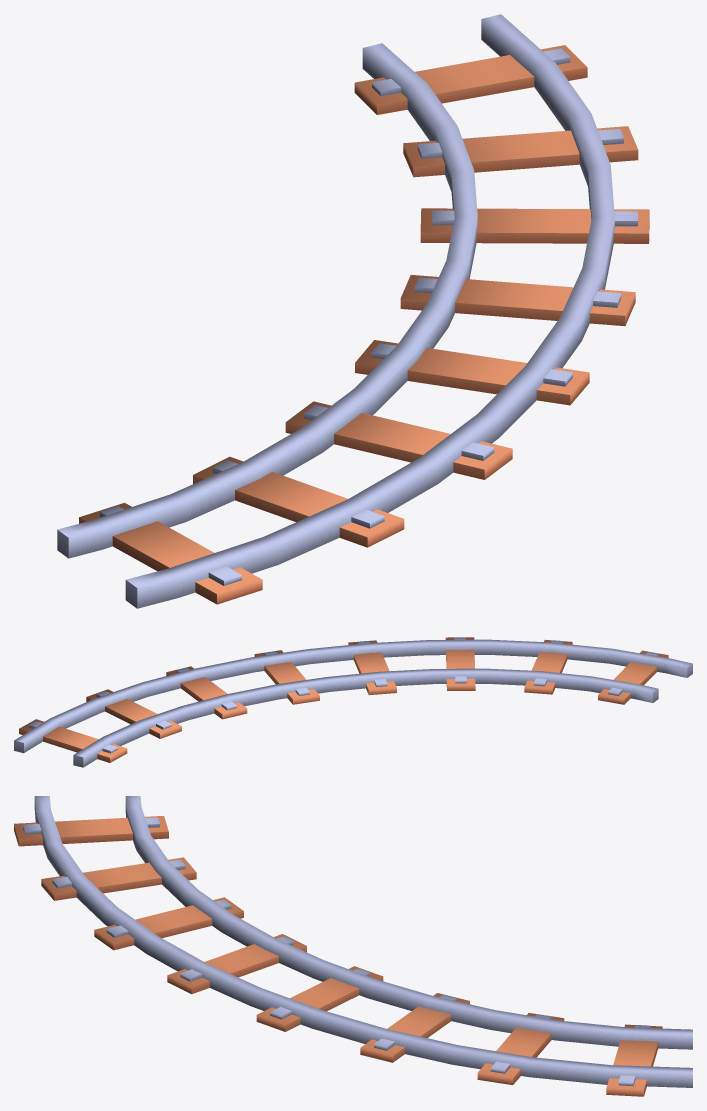
Rendered from railroad-corner-large.004_lev2.glb.
The picture shows the model from 3 angles, top to bottom: view 1: azimuth 30°, elevation 25°; view 2: azimuth 150°, elevation 25°; view 3: azimuth 270°, elevation 25°; orthographic projection. The views are drawn at different scales.
Visible parts, largest first — view 1: railroad-corner-large.004_lev2; view 2: railroad-corner-large.004_lev2; view 3: railroad-corner-large.004_lev2.
Part boxes in pixels (bbox=[...]): railroad-corner-large.004_lev2: bbox=[57, 14, 649, 608]; railroad-corner-large.004_lev2: bbox=[14, 637, 692, 767]; railroad-corner-large.004_lev2: bbox=[14, 796, 692, 1096].
Bounding box in the file's own units: 4.49 × 0.1 × 4.49.
1 material, 1 textured.
